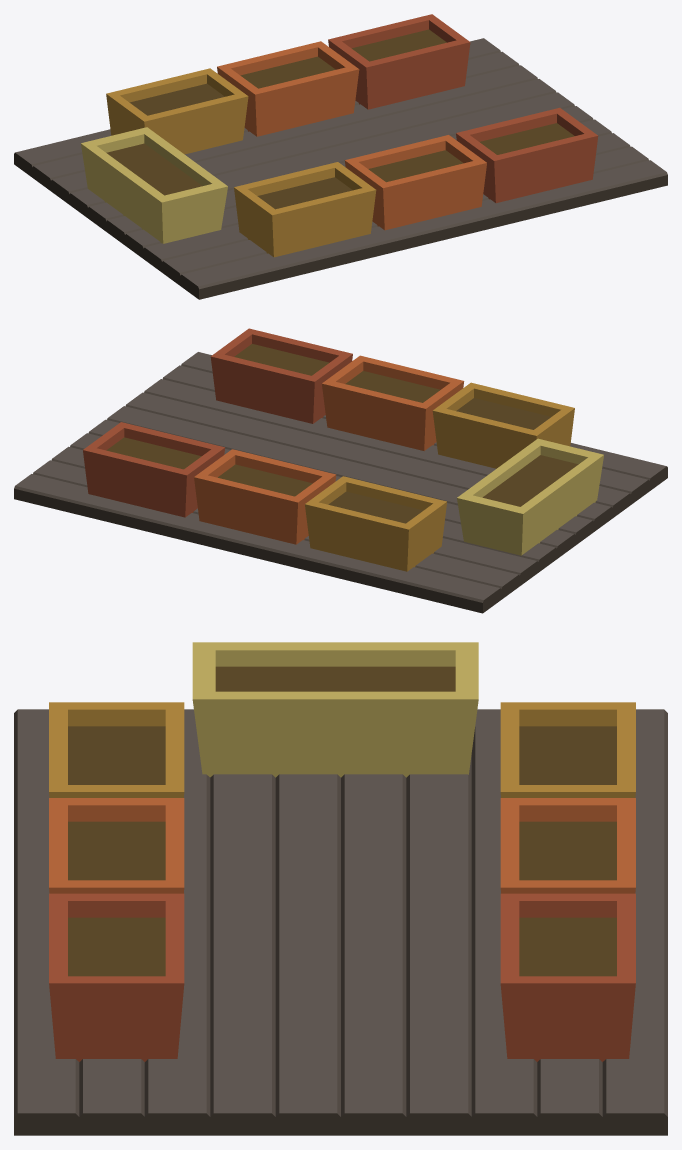
Rendered from garden .fbx.
3 renders of one model, top to bottom at view 1: azimuth 30°, elevation 25°; view 2: azimuth 150°, elevation 25°; view 3: azimuth 270°, elevation 25°, orthographic. The views are drawn at different scales.
Visible parts, largest first — view 1: Cube.003; view 2: Cube.003; view 3: Cube.003.
Boxes of the visible parts, left/top/right/bottom form: Cube.003: left=14, top=14, right=667, bottom=299; Cube.003: left=14, top=328, right=667, bottom=613; Cube.003: left=14, top=642, right=667, bottom=1135.
Size of the model in its own units: 585 by 68 by 400.
